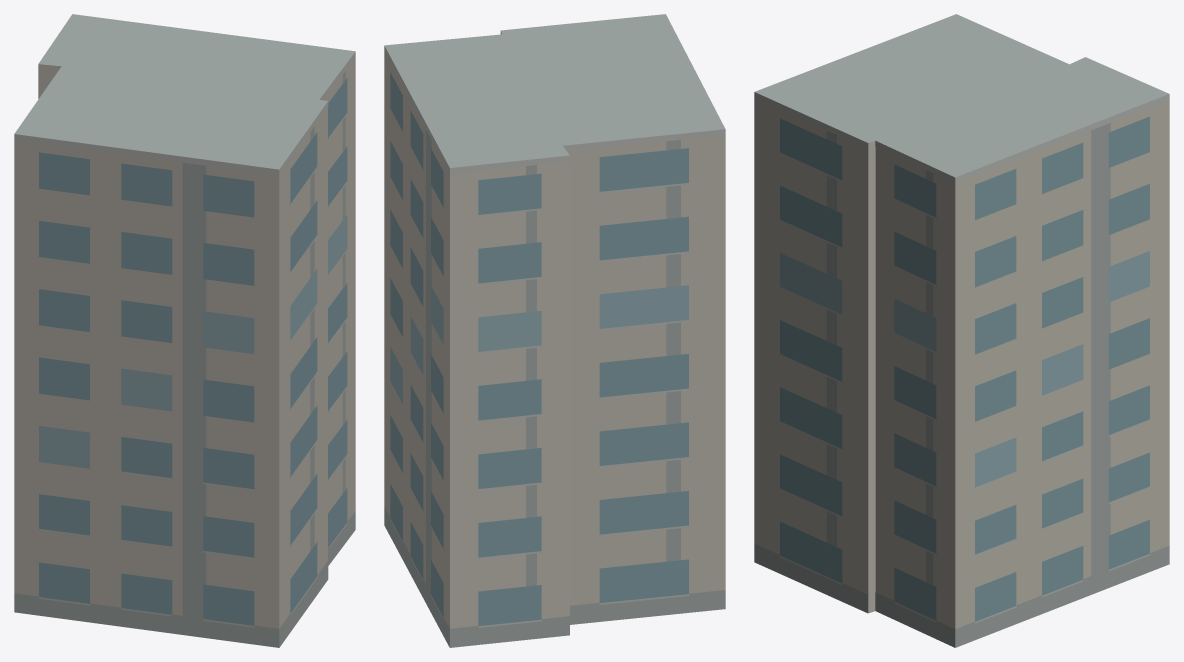
The model's file is survey-upis-32693951.glb.
3 renders of one model, left to right at view 1: azimuth 30°, elevation 25°; view 2: azimuth 150°, elevation 25°; view 3: azimuth 270°, elevation 25°, orthographic. The views are drawn at different scales.
Visible parts, largest first — view 1: survey-upis-32693951.tmp; view 2: survey-upis-32693951.tmp; view 3: survey-upis-32693951.tmp.
Boxes of the visible parts, x1,y1,x2,y2 form: survey-upis-32693951.tmp: (14, 14, 355, 647); survey-upis-32693951.tmp: (384, 14, 725, 647); survey-upis-32693951.tmp: (754, 14, 1169, 647).
Size of the model in its own units: 14.4 by 19.3 by 15.45.
